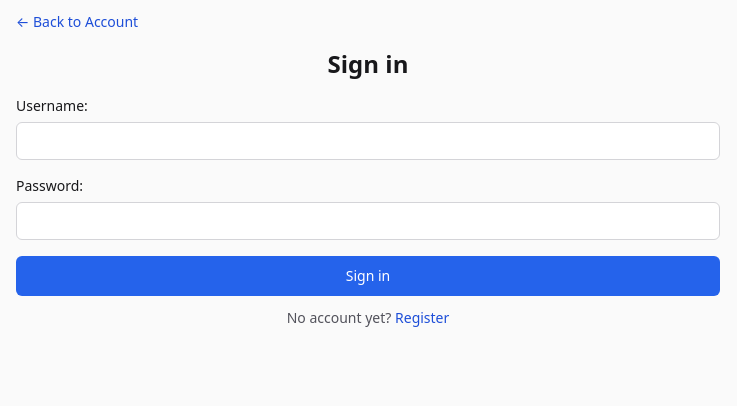
Test: Login › surfaces the API detail on credential failure
The image size is (737, 406).
Type "alice" into the field labelled "Username:" at (368, 141), box left=16, top=122, right=720, bottom=160
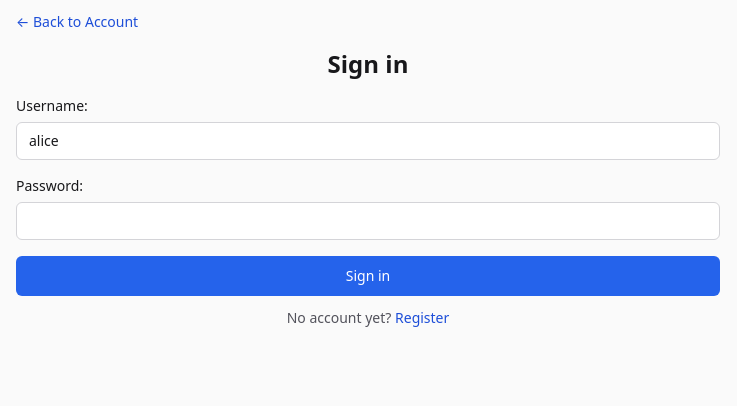
Type "S3cure!pass" into the password field labelled "Password:" at (368, 221), box left=16, top=202, right=720, bottom=240
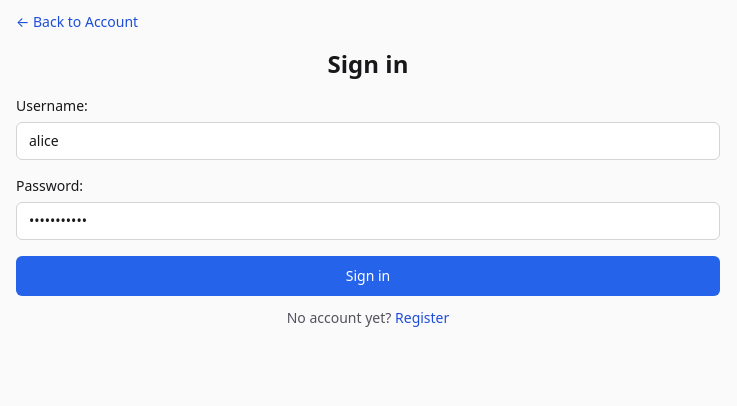
Click the button "Sign in" at (368, 276), box left=16, top=256, right=720, bottom=296
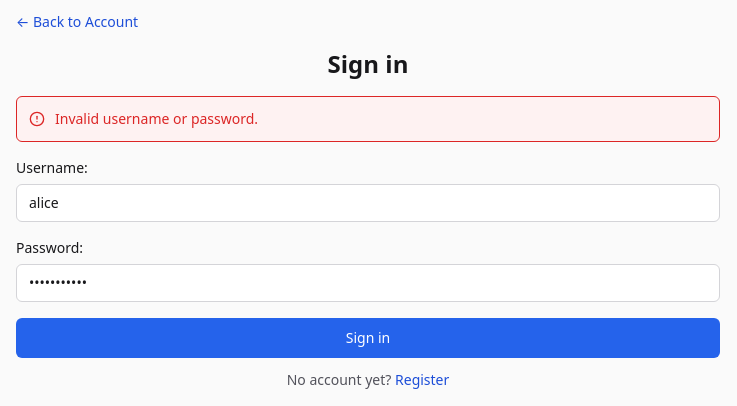
Result: the text "Invalid username or password." is shown at left=55, top=109, right=258, bottom=129
